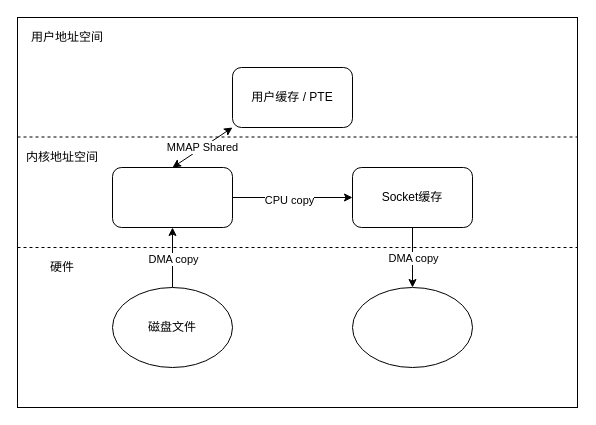
Some shapes in this 596 by 425 pixel diagram are drawn without their labels. The box of each missing label's shape, as (x1, y1, x2, y2) in pixels:
Kernel缓存 / page cache: (112, 166, 232, 228)
网卡: (352, 286, 472, 368)
